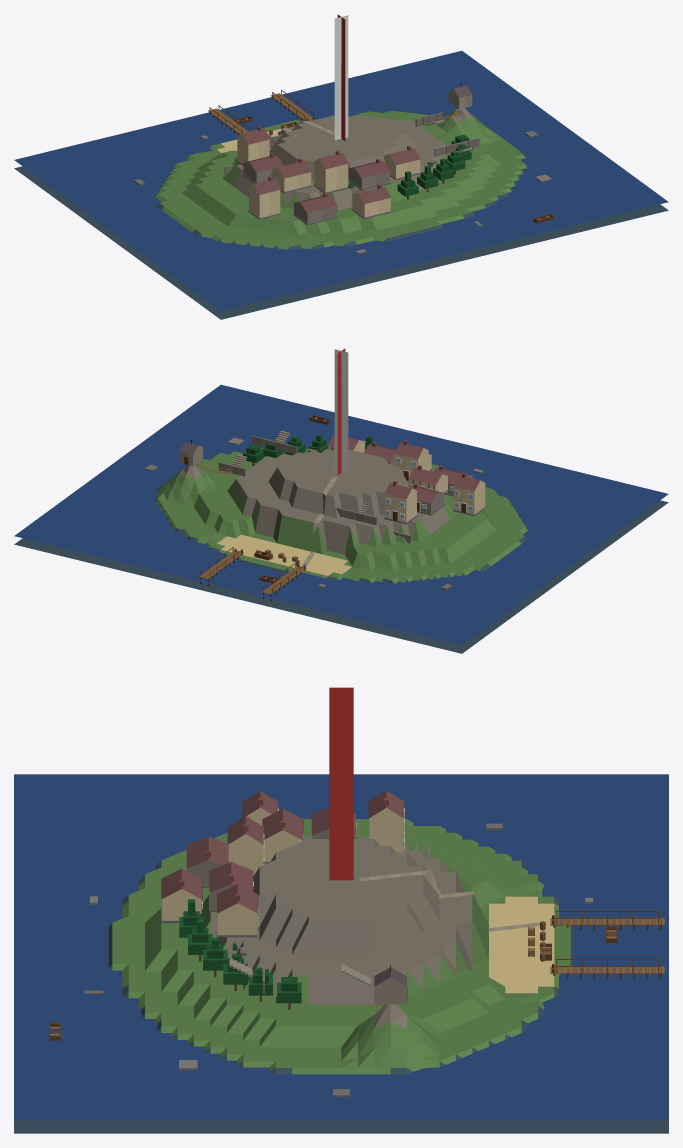
Rendered from scene_good_v3.obj.
3 views of the same model, one above another, from view 1: azimuth 30°, elevation 25°; view 2: azimuth 150°, elevation 25°; view 3: azimuth 270°, elevation 25° (orthographic). The views are drawn at different scales.
Visible parts, largest first — view 1: water, terrain, lighthouse_tower, house_3_two_story, house_9_two_story, house_8_stone, house_7_timber, house_4_timber, house_6_two_story, house_2_stone, house_1_timber, house_5_stone (+2 smaller); view 2: water, terrain, lighthouse_tower, house_6_two_story, house_9_two_story, house_3_two_story, house_4_timber, house_5_stone, pier_1, pier_2, wall_1, chapel_1; view 3: water, terrain, lighthouse_tower, house_1_timber, house_6_two_story, house_7_timber, house_3_two_story, house_4_timber, house_8_stone, pier_1, house_2_stone, pier_2 (+4 smaller).
Boxes of the visible parts, bbox=[...] form: water: bbox=[14, 50, 668, 311]; terrain: bbox=[14, 108, 668, 319]; lighthouse_tower: bbox=[334, 14, 348, 141]; house_3_two_story: bbox=[314, 150, 348, 193]; house_9_two_story: bbox=[248, 176, 280, 219]; house_8_stone: bbox=[293, 192, 337, 225]; house_7_timber: bbox=[351, 184, 391, 219]; house_4_timber: bbox=[271, 158, 311, 193]; house_6_two_story: bbox=[236, 126, 270, 165]; house_2_stone: bbox=[348, 158, 390, 190]; house_1_timber: bbox=[383, 145, 420, 180]; house_5_stone: bbox=[242, 153, 283, 183]; water: bbox=[14, 384, 668, 645]; terrain: bbox=[14, 448, 668, 653]; lighthouse_tower: bbox=[334, 348, 348, 475]; house_6_two_story: bbox=[384, 480, 417, 524]; house_9_two_story: bbox=[453, 472, 485, 516]; house_3_two_story: bbox=[395, 440, 428, 481]; house_4_timber: bbox=[408, 465, 448, 493]; house_5_stone: bbox=[409, 483, 445, 515]; pier_1: bbox=[262, 562, 306, 601]; pier_2: bbox=[199, 547, 243, 585]; wall_1: bbox=[252, 430, 297, 454]; chapel_1: bbox=[179, 439, 203, 465]; water: bbox=[14, 774, 668, 1120]; terrain: bbox=[14, 819, 668, 1133]; lighthouse_tower: bbox=[329, 687, 353, 880]; house_1_timber: bbox=[217, 884, 258, 937]; house_6_two_story: bbox=[368, 790, 404, 852]; house_7_timber: bbox=[161, 868, 202, 923]; house_3_two_story: bbox=[227, 816, 264, 875]; house_4_timber: bbox=[262, 809, 303, 864]; house_8_stone: bbox=[186, 836, 228, 887]; pier_1: bbox=[550, 910, 664, 929]; house_2_stone: bbox=[209, 862, 253, 911]; pier_2: bbox=[550, 959, 664, 978].
Size of the model in its own units: 100 by 36.8 by 80.
